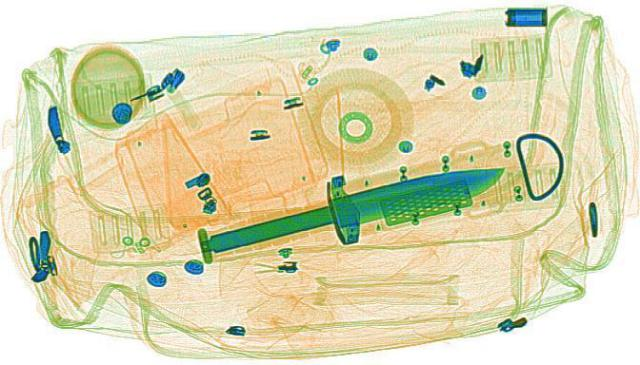Knife: (156, 136, 534, 283)
